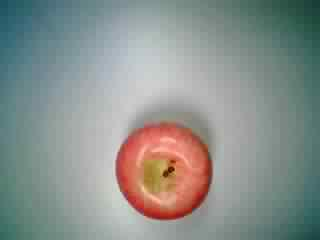apple: (114, 120, 219, 224)
